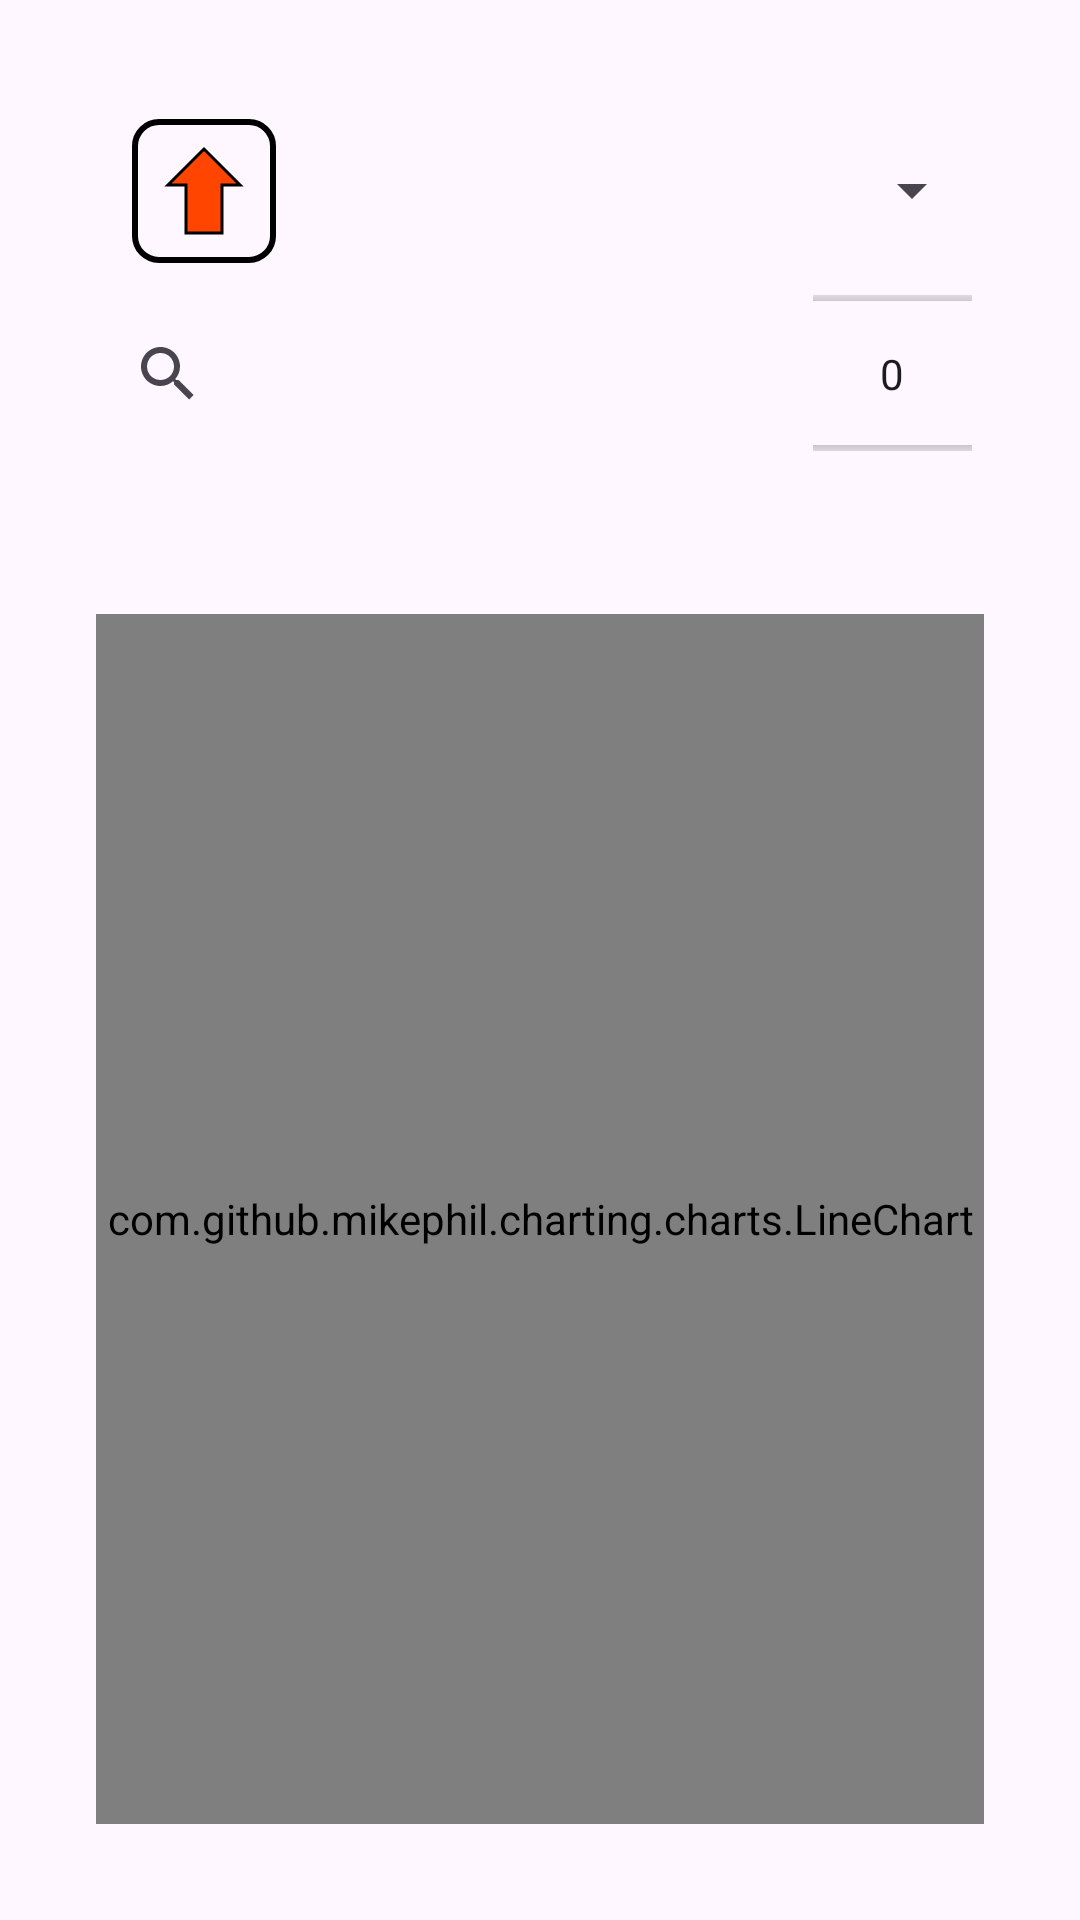

Icon bounding boxes for this 1080 x 1920 phone screenshot, format (left=x1, top=y1, right=x2, bottom=y2):
up arrow: (left=132, top=119, right=276, bottom=263)
